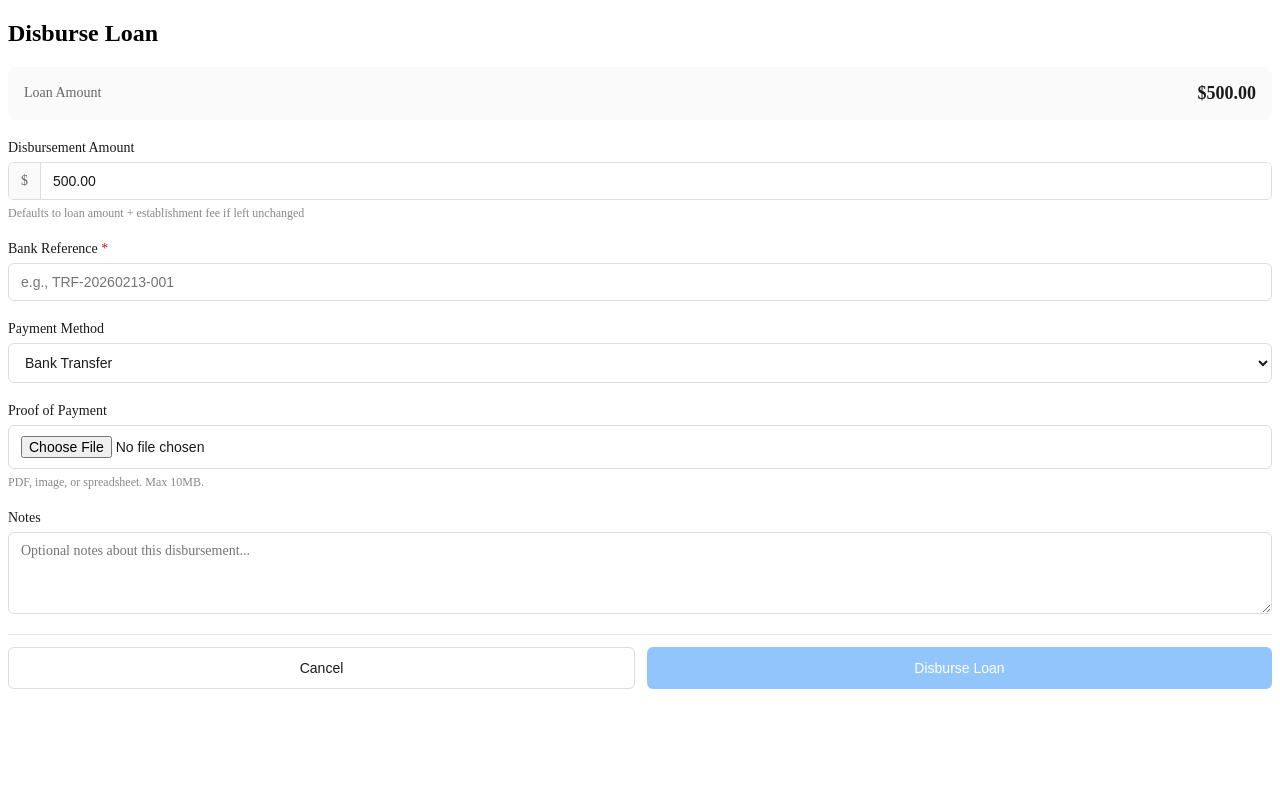
Test: DisburseLoanDrawer: an already disbursed loan › still treats ALREADY_DISBURSED as done
Type "TRF-1" into the field labelled "Bank Reference *" at (640, 282), box [8, 263, 1272, 301]
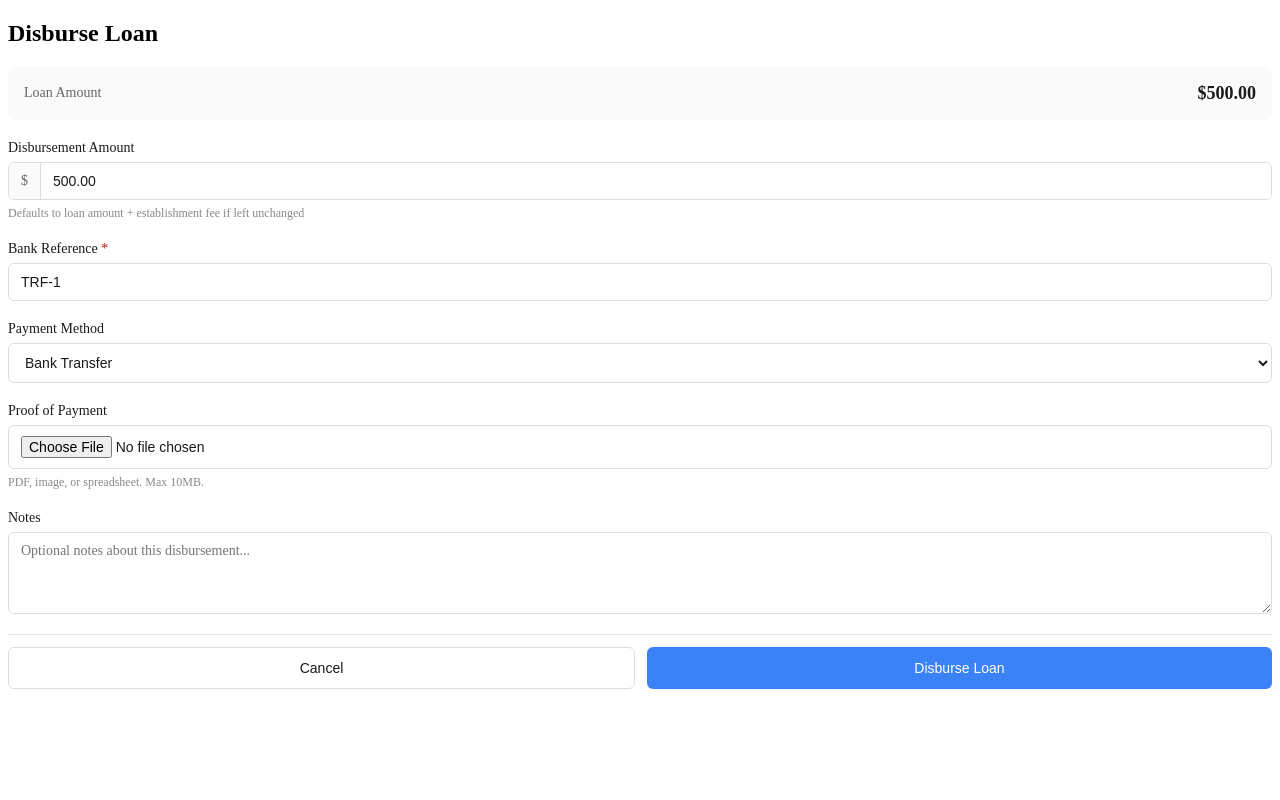
Click the button "Disburse Loan" at (960, 668), box [647, 647, 1272, 689]
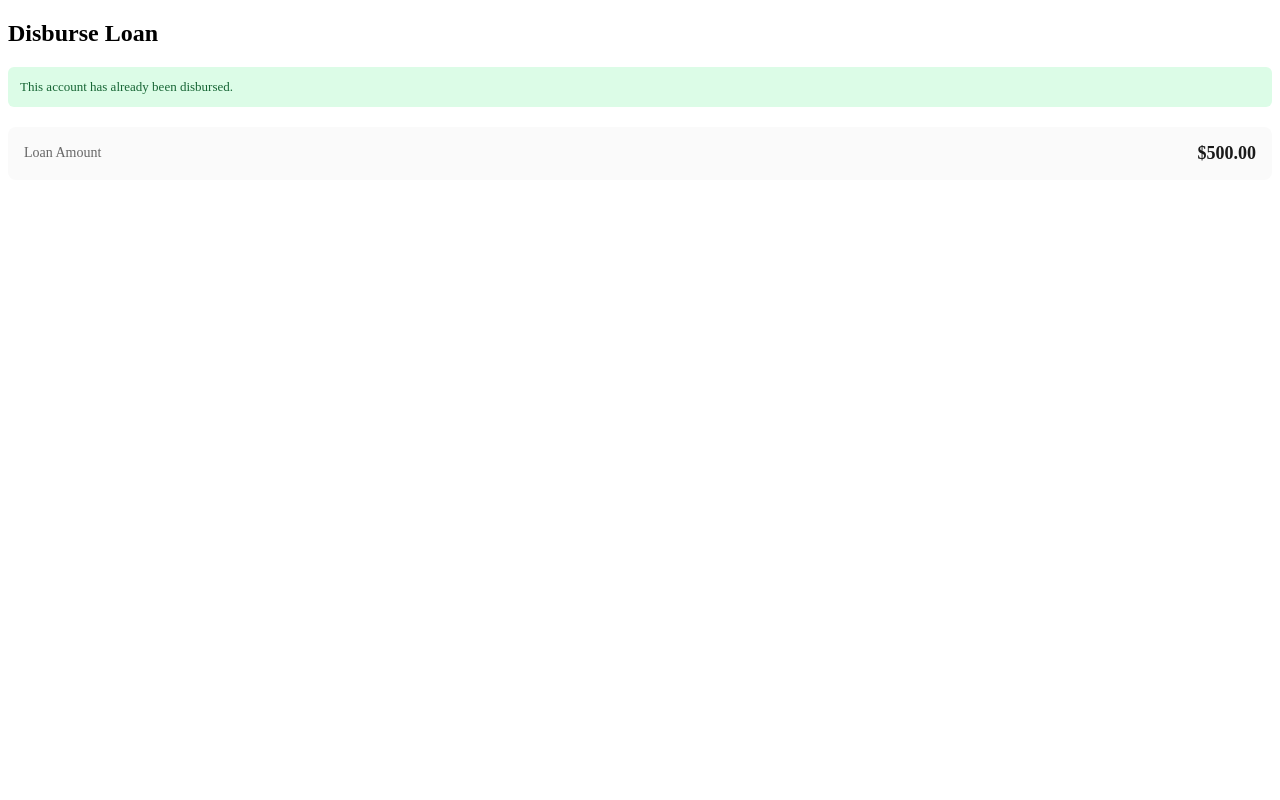
Result: the text "This account has already been disbursed." is shown at [20, 79, 233, 94]
